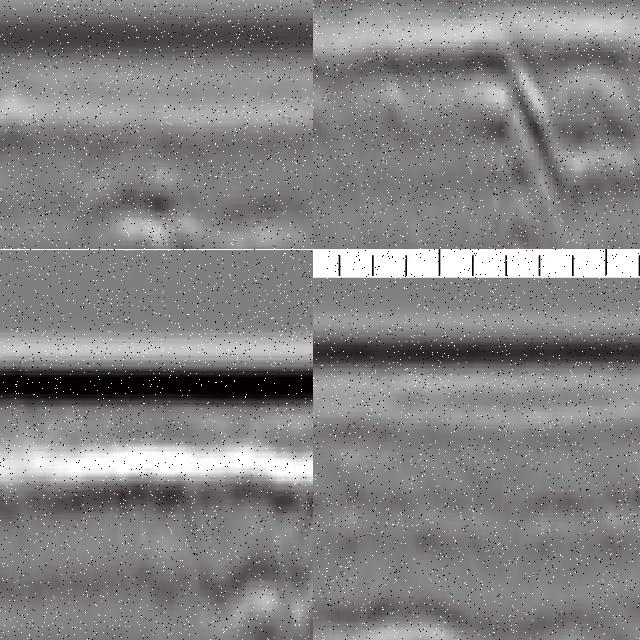crack: (471, 20, 553, 250)
loose: (94, 156, 314, 250), (212, 444, 314, 640), (314, 581, 640, 640)
